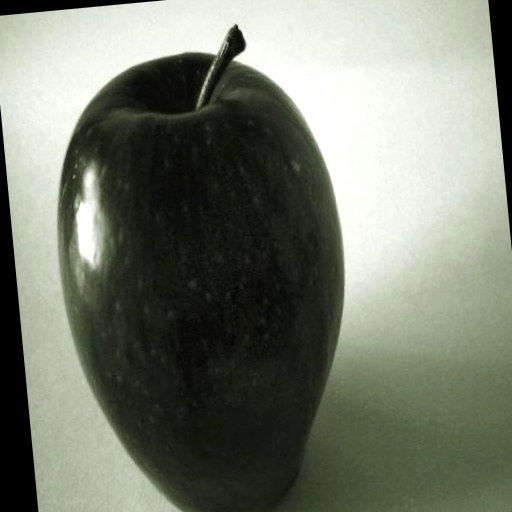fruit: (57, 28, 343, 512)
